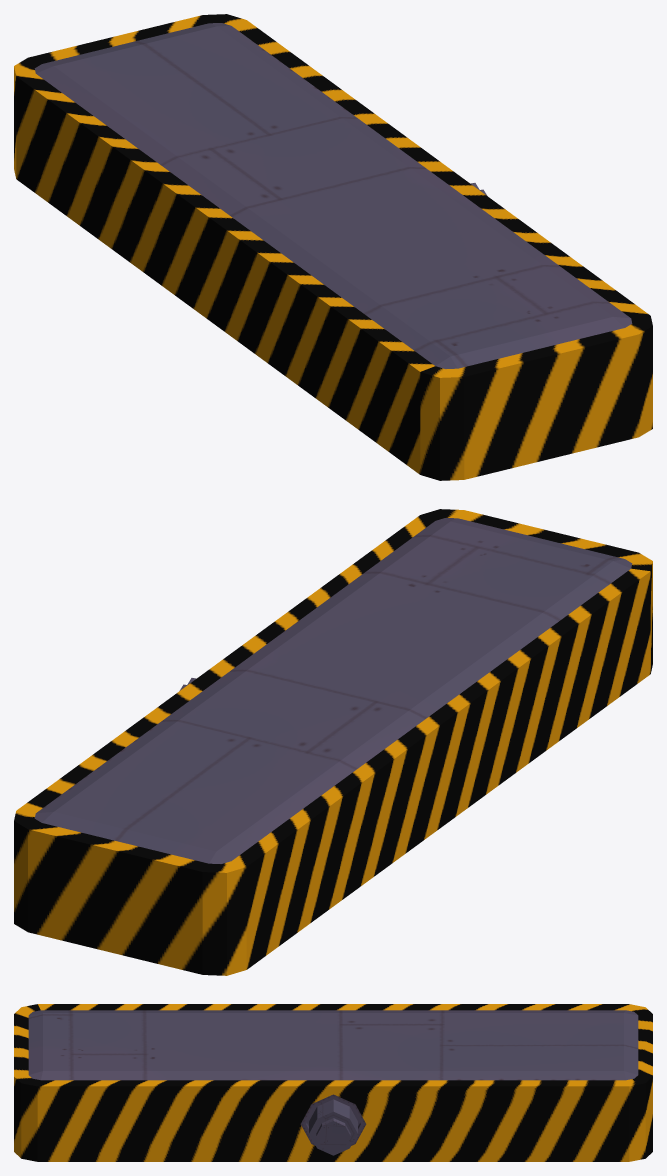
File: Rotating_Platform.glb
The picture shows the model from 3 angles, top to bottom: view 1: azimuth 30°, elevation 25°; view 2: azimuth 150°, elevation 25°; view 3: azimuth 270°, elevation 25°; orthographic projection. The views are drawn at different scales.
Visible parts, largest first — view 1: Rotating_Platform; view 2: Rotating_Platform; view 3: Rotating_Platform.
Part boxes in pixels (x1,y1,x2,y2): Rotating_Platform: (14, 14, 652, 480); Rotating_Platform: (14, 509, 652, 975); Rotating_Platform: (14, 1004, 652, 1161).
Bounding box in the file's own units: 1.45 × 0.5607 × 4.12.
1 material, 1 textured.
